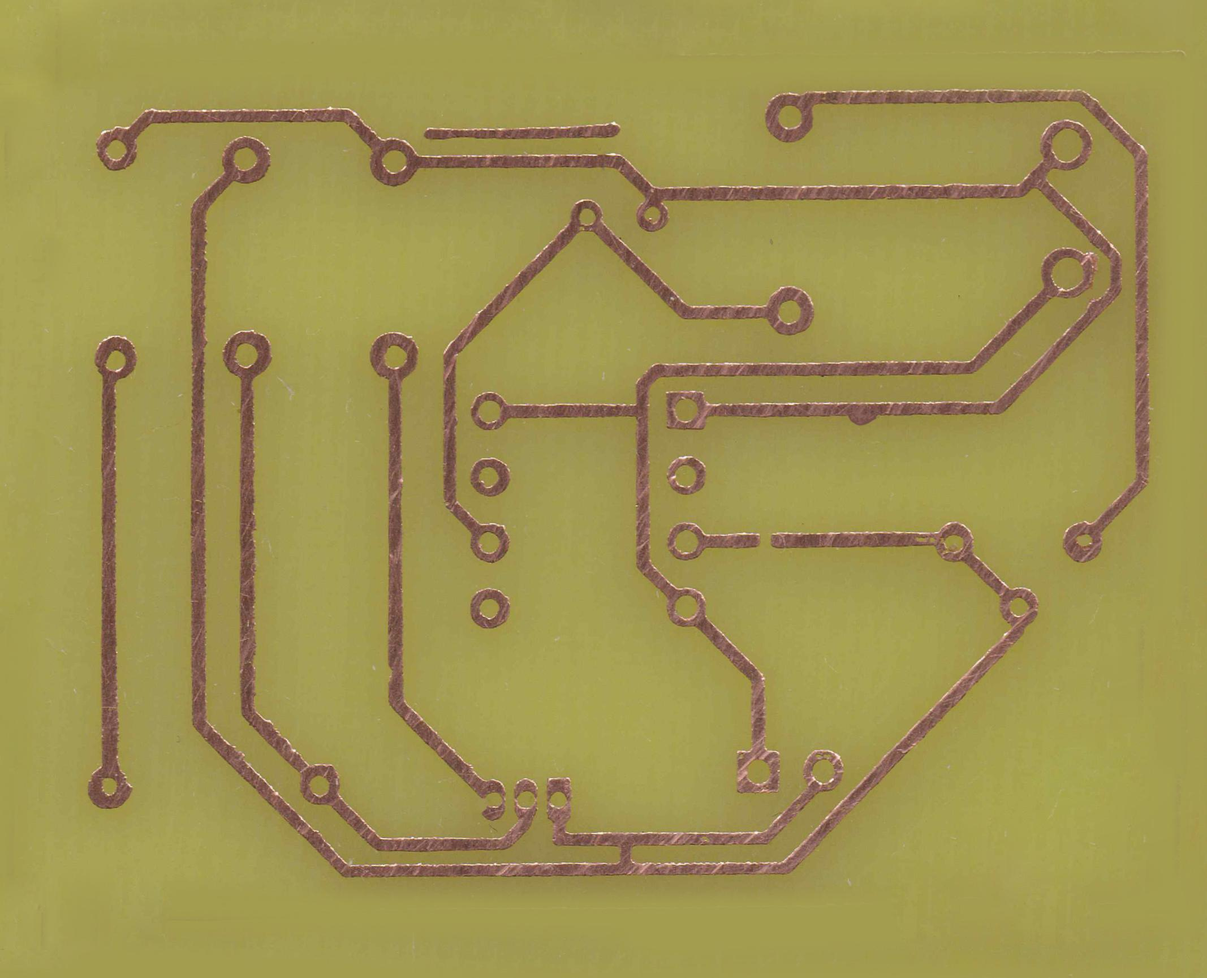missing_hole: (477, 774, 507, 824)
open_circuit: (751, 528, 781, 554)
short: (615, 825, 637, 878)
spur: (843, 396, 883, 433)
spurious_copper: (417, 120, 626, 145)
